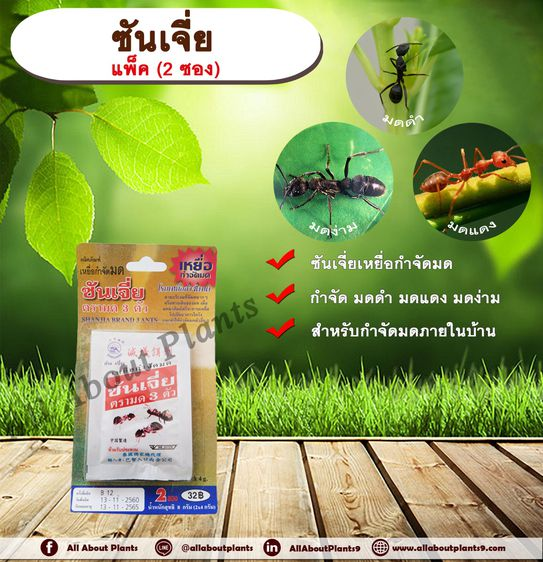Insecticide: (85, 327, 196, 486)
